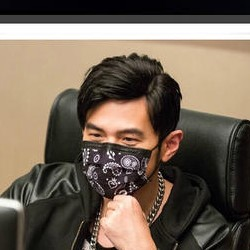mask: (79, 139, 155, 204)
